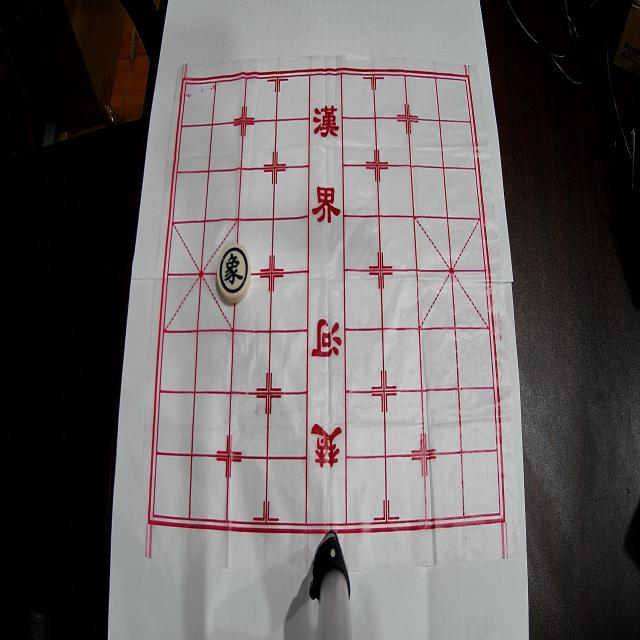black-elephant: (217, 244, 251, 303)
